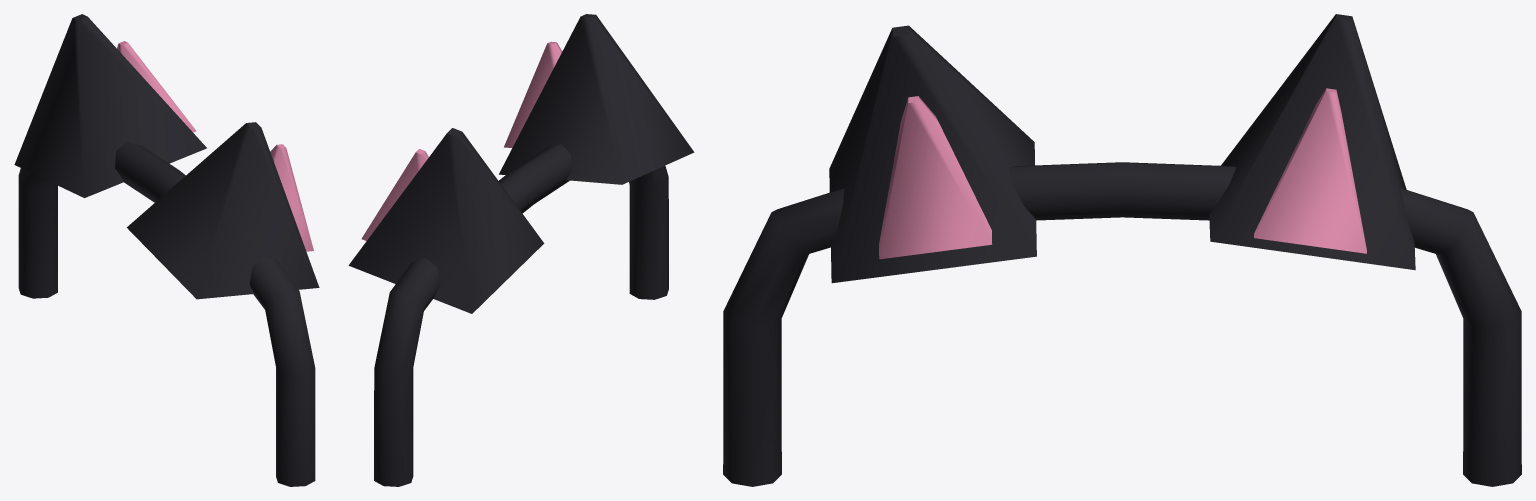
Rendered from hat-cat_ears.glb.
The picture shows the model from 3 angles, left to right: view 1: azimuth 30°, elevation 25°; view 2: azimuth 150°, elevation 25°; view 3: azimuth 270°, elevation 25°; orthographic projection. The views are drawn at different scales.
Visible parts, largest first — view 1: Hat; view 2: Hat; view 3: Hat.
Boxes of the visible parts, left/top/right/bottom form: Hat: left=14, top=14, right=319, bottom=486; Hat: left=348, top=14, right=694, bottom=486; Hat: left=723, top=14, right=1521, bottom=486.
Size of the model in its own units: 0.168 by 0.34 by 0.544.
